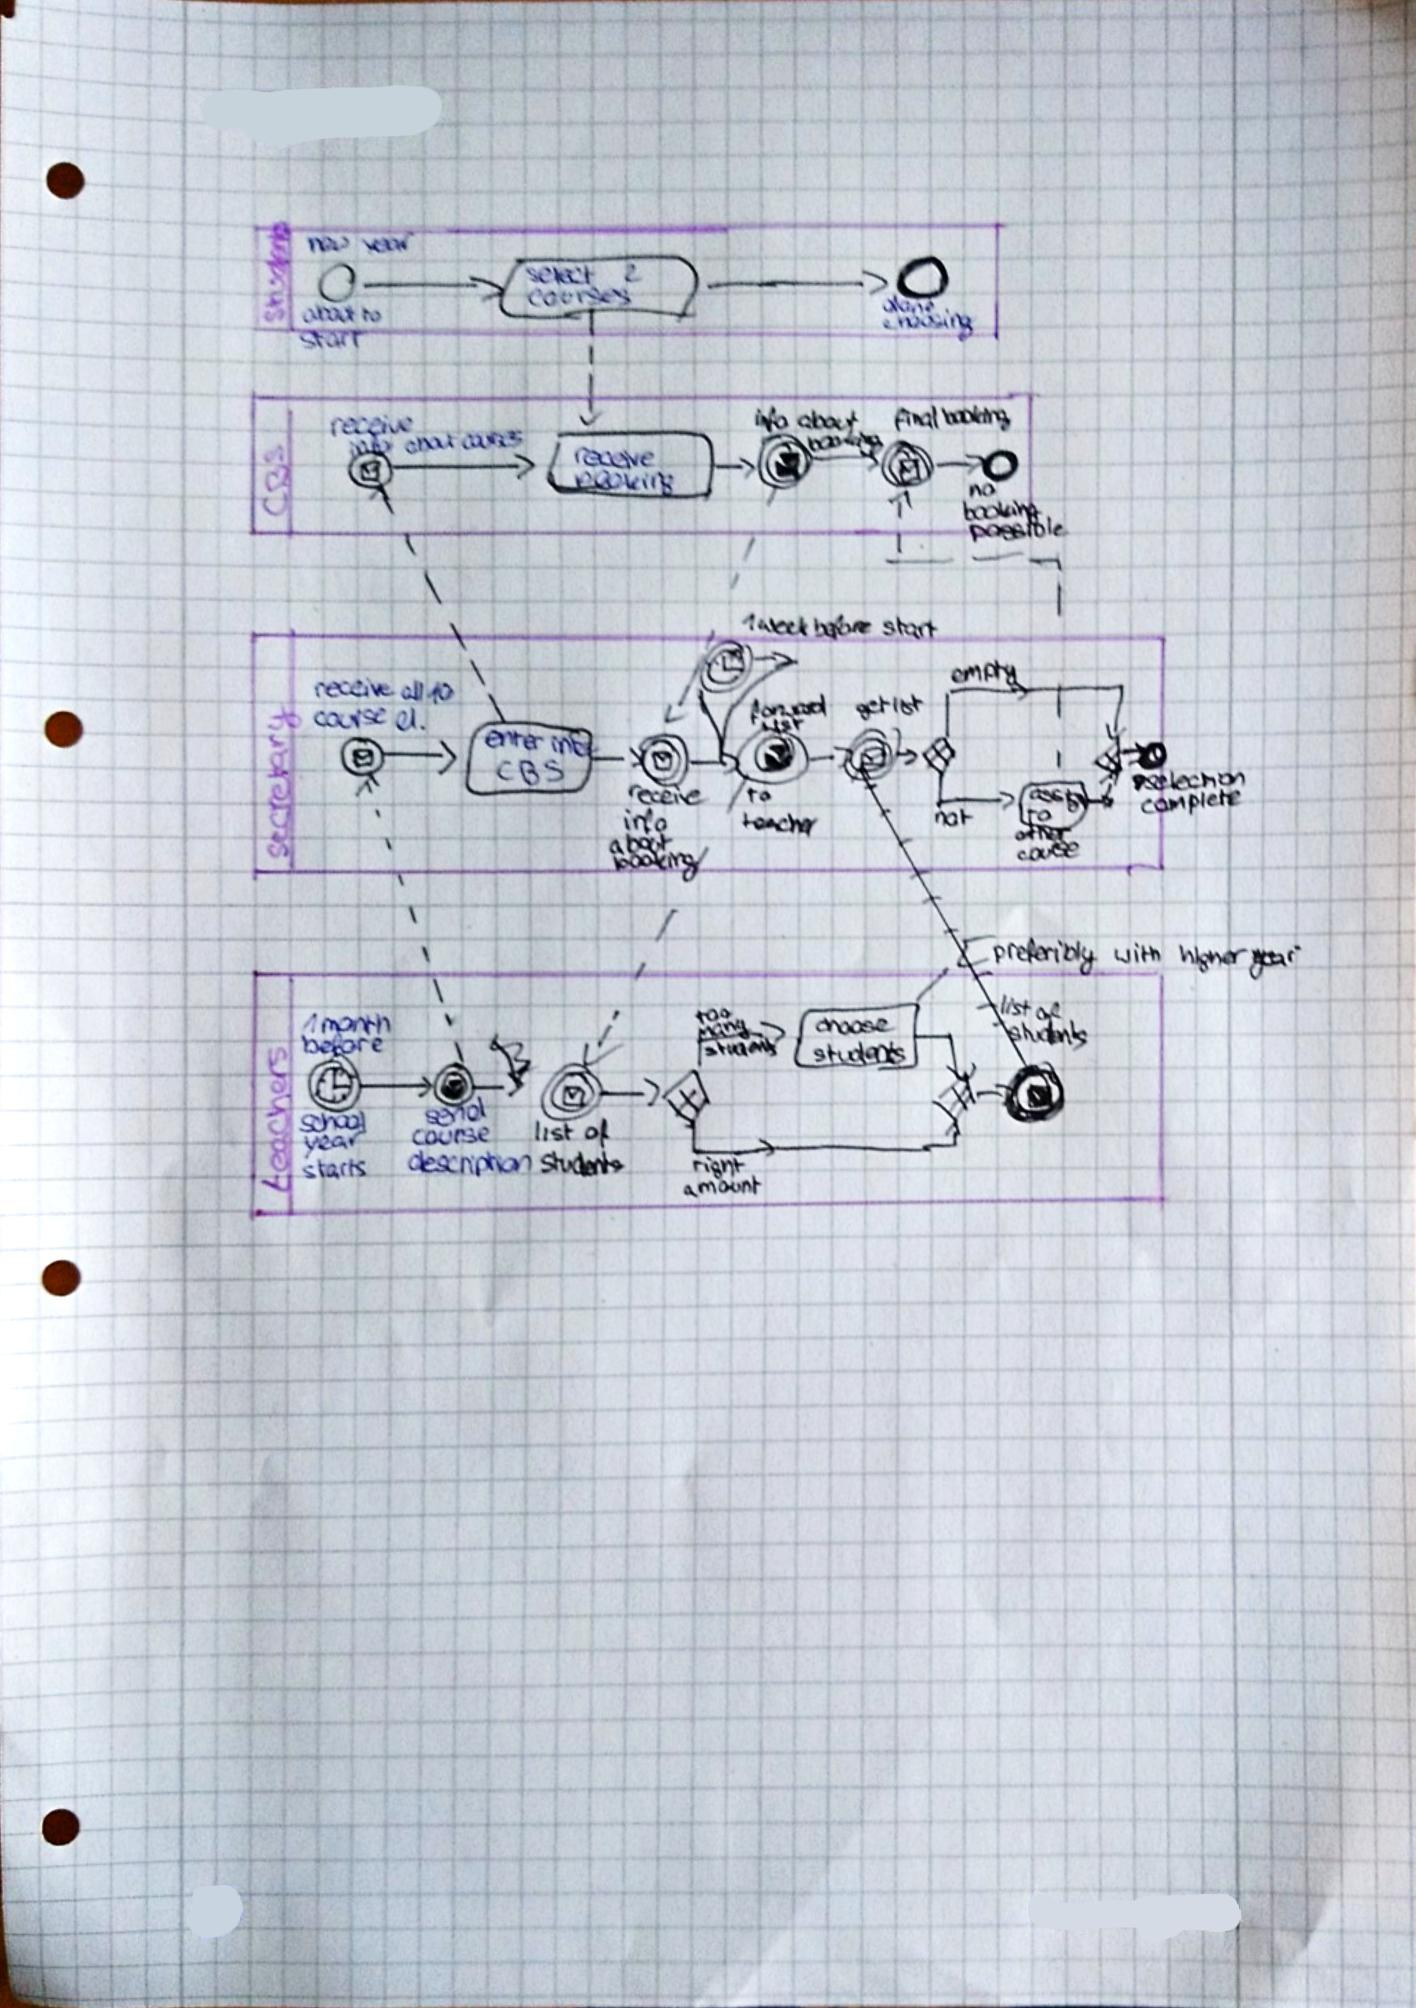1: (303, 1008, 321, 1038), (739, 612, 759, 637)
10: (425, 679, 458, 706)
2: (622, 261, 644, 287)
CBS: (258, 443, 291, 518), (492, 757, 569, 786)
List: (758, 717, 805, 734)
Start: (297, 328, 365, 352)
about: (797, 406, 864, 435), (608, 831, 673, 857), (399, 434, 459, 457), (298, 304, 361, 324)
all: (397, 677, 429, 706)
amount: (678, 1177, 766, 1198)
before: (297, 1033, 387, 1058), (810, 614, 875, 642)
booking: (572, 469, 683, 496), (611, 853, 701, 880), (806, 430, 888, 458), (943, 402, 1012, 432), (960, 499, 1048, 523)
cast: (1027, 781, 1087, 802)
choose: (811, 1014, 894, 1035)
choosing: (879, 309, 978, 340)
complete: (1137, 795, 1247, 823)
course: (411, 1125, 496, 1148), (313, 706, 391, 732), (1012, 843, 1081, 868)
courses: (526, 283, 634, 310), (459, 429, 529, 450)
d.: (392, 704, 428, 735)
description: (406, 1150, 538, 1178)
done: (878, 293, 940, 317)
empty: (948, 660, 1024, 686)
enter: (482, 724, 546, 751)
final: (890, 404, 943, 433)
forward: (745, 698, 828, 726)
get: (854, 693, 894, 722)
higher: (1176, 945, 1252, 974)
info: (547, 726, 602, 755), (621, 807, 671, 834), (751, 405, 792, 435), (344, 438, 390, 463)
list: (532, 1120, 580, 1146), (998, 994, 1035, 1017)
many: (692, 1026, 751, 1045)
month: (319, 1012, 394, 1038)
new: (304, 232, 354, 256)
no: (965, 479, 999, 500)
not: (931, 806, 974, 828)
of: (579, 1119, 617, 1151), (1034, 1001, 1066, 1028)
other: (1012, 824, 1069, 844)
possible: (966, 518, 1072, 543)
preferibly: (990, 937, 1103, 975)
receive: (326, 414, 418, 439), (625, 781, 711, 809), (570, 447, 659, 472), (311, 677, 394, 700)
right: (689, 1155, 747, 1179)
school: (296, 1111, 373, 1134)
secretary: (262, 707, 299, 859)
select: (522, 263, 597, 287)
selection: (1141, 769, 1248, 793)
send: (420, 1100, 488, 1131)
start: (882, 615, 939, 643)
starts: (301, 1157, 371, 1182)
students: (252, 217, 290, 325), (1007, 1012, 1094, 1047), (809, 1040, 911, 1067), (538, 1150, 625, 1178), (702, 1038, 785, 1061)
teacher: (737, 806, 822, 834)
teachers: (260, 1044, 296, 1196)
to: (1023, 802, 1057, 829), (743, 784, 775, 808), (359, 304, 385, 324)
too: (692, 1003, 734, 1026)
week: (756, 610, 812, 636)
with: (1111, 939, 1168, 966)
year: (300, 1130, 366, 1159), (1245, 946, 1300, 981), (362, 232, 413, 261)
